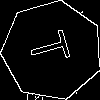T: (27, 26, 80, 68)
